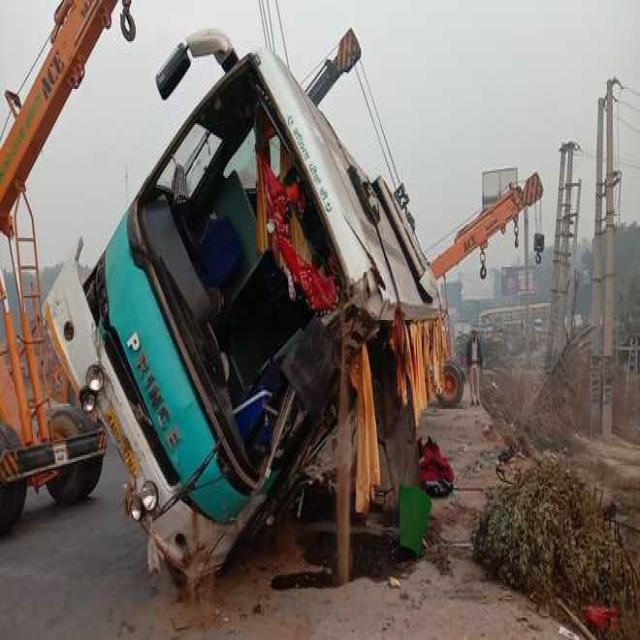accident: (45, 31, 451, 582)
